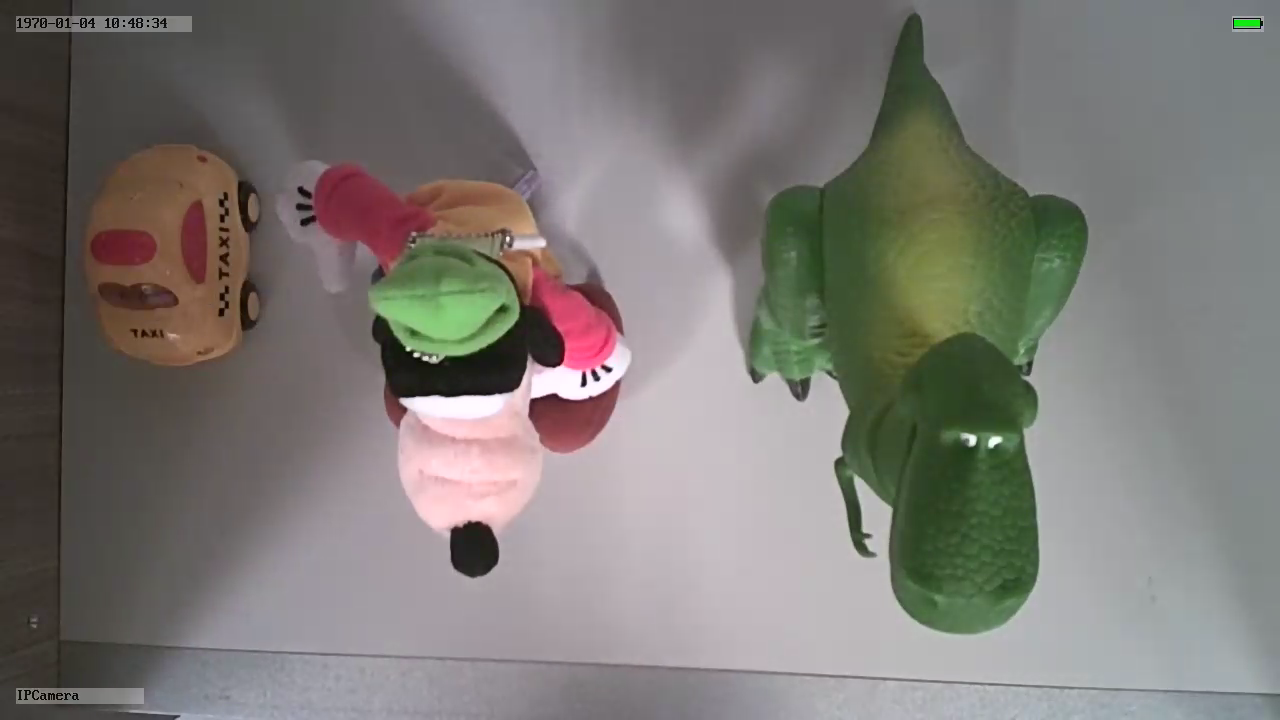goofy: (275, 157, 631, 582)
